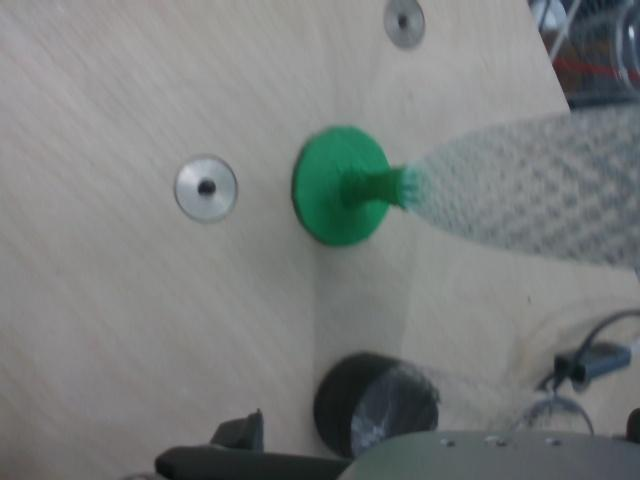black_cup: (313, 349, 439, 461)
green_cup: (292, 124, 413, 248)
